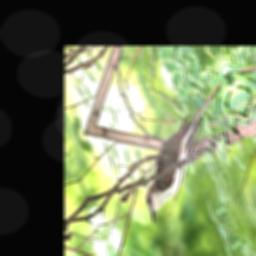Cuckoo: (120, 80, 256, 224)
